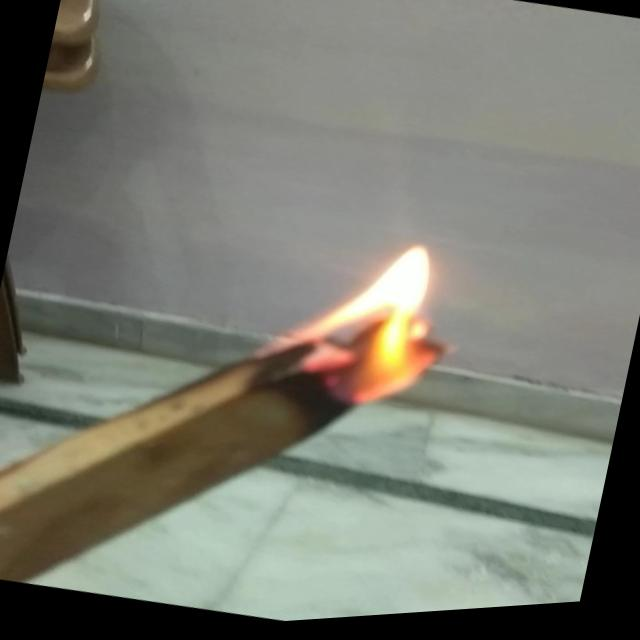fire: (253, 210, 492, 442)
